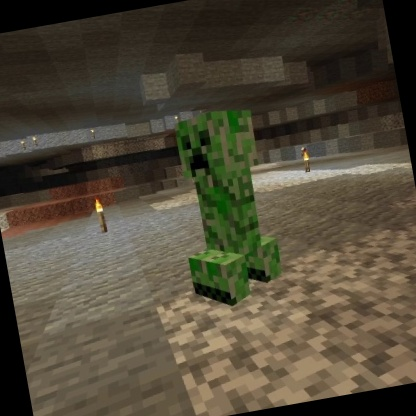creeper: (160, 100, 290, 316)
